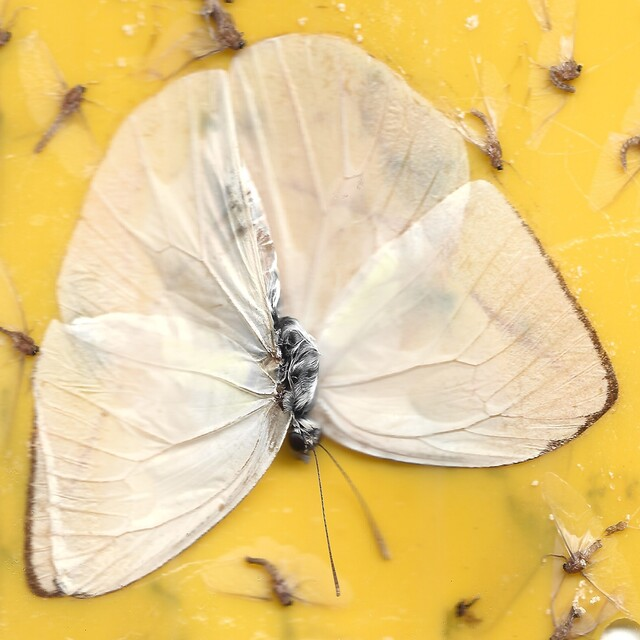Ephemeroptera: (243, 555, 294, 610), (470, 108, 504, 171)
Lepidoptera: (22, 30, 618, 602)
